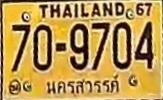0: (112, 21, 131, 68), (33, 24, 51, 70)
4: (134, 20, 153, 68)
7: (11, 23, 30, 71), (91, 22, 109, 69)
9: (69, 23, 88, 69)
NSN: (44, 74, 123, 98)
